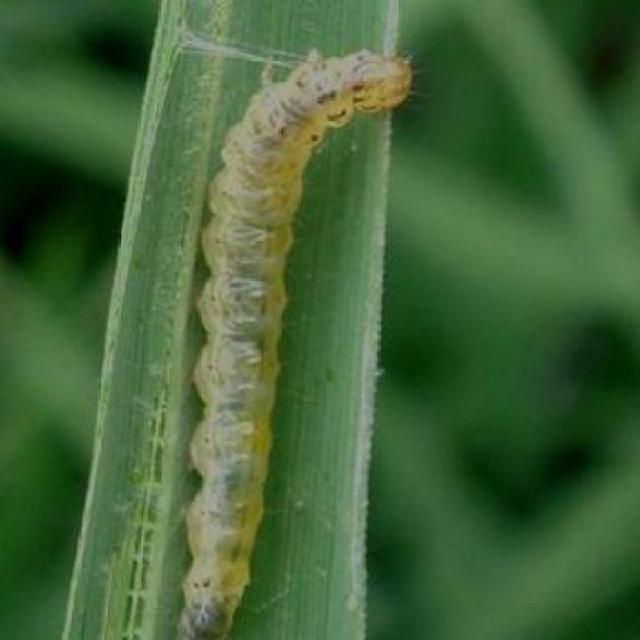leaf-folder: (138, 34, 460, 640)
